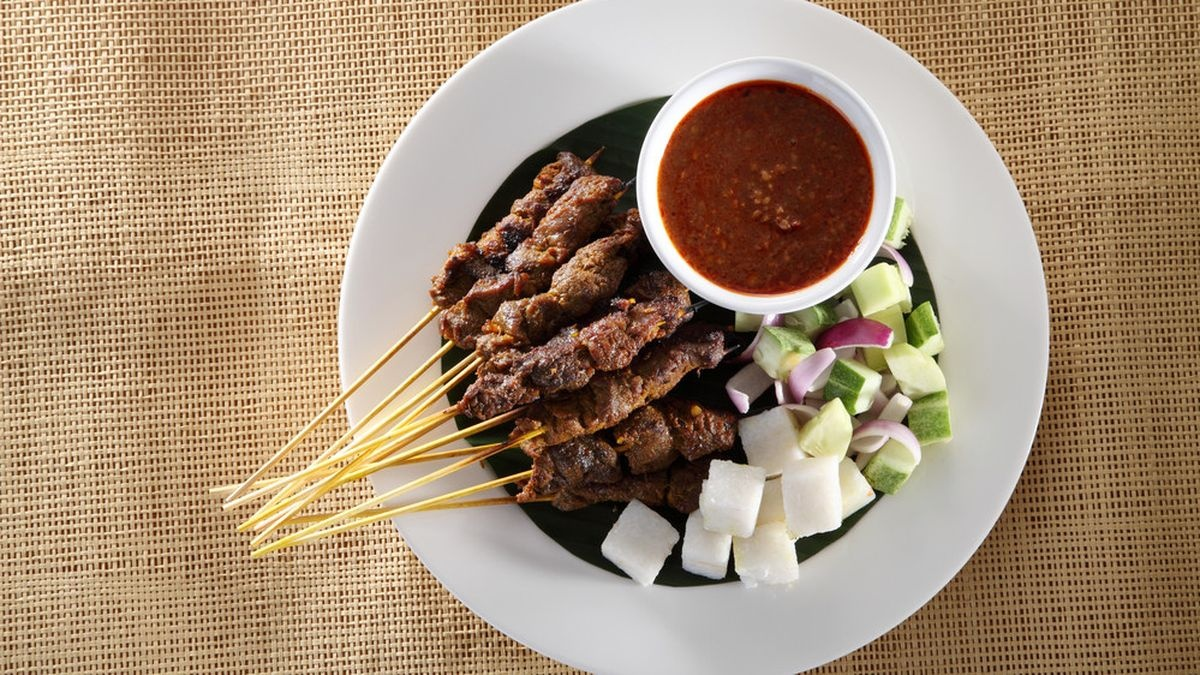sate: (359, 139, 767, 534)
